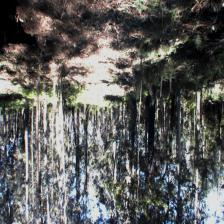trunktrack_idkeyframe: (147, 96, 156, 142), (24, 99, 30, 151)
